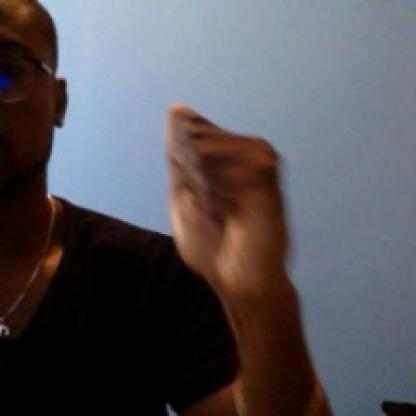BACKWARD: (158, 81, 308, 340)
